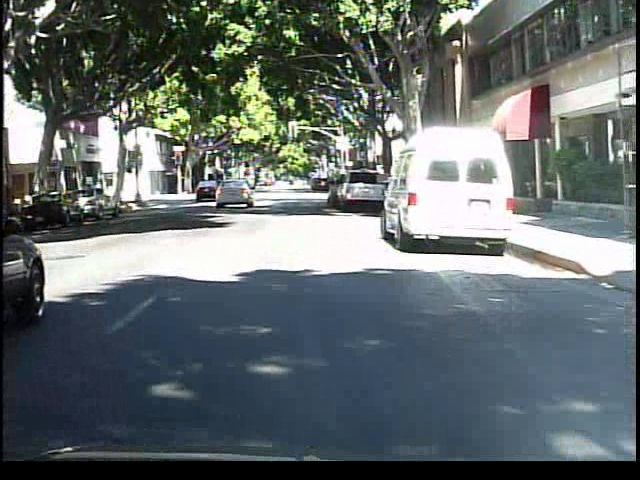person: (234, 174, 255, 207)
